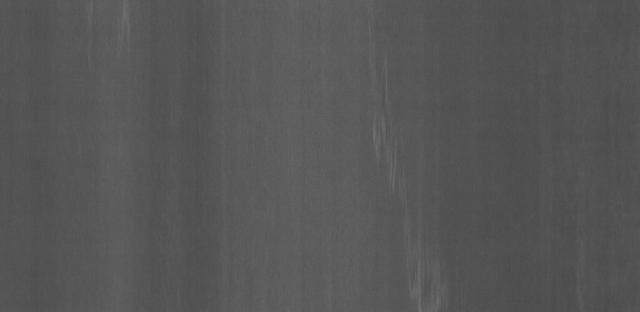silk_spot: (356, 66, 417, 198)
